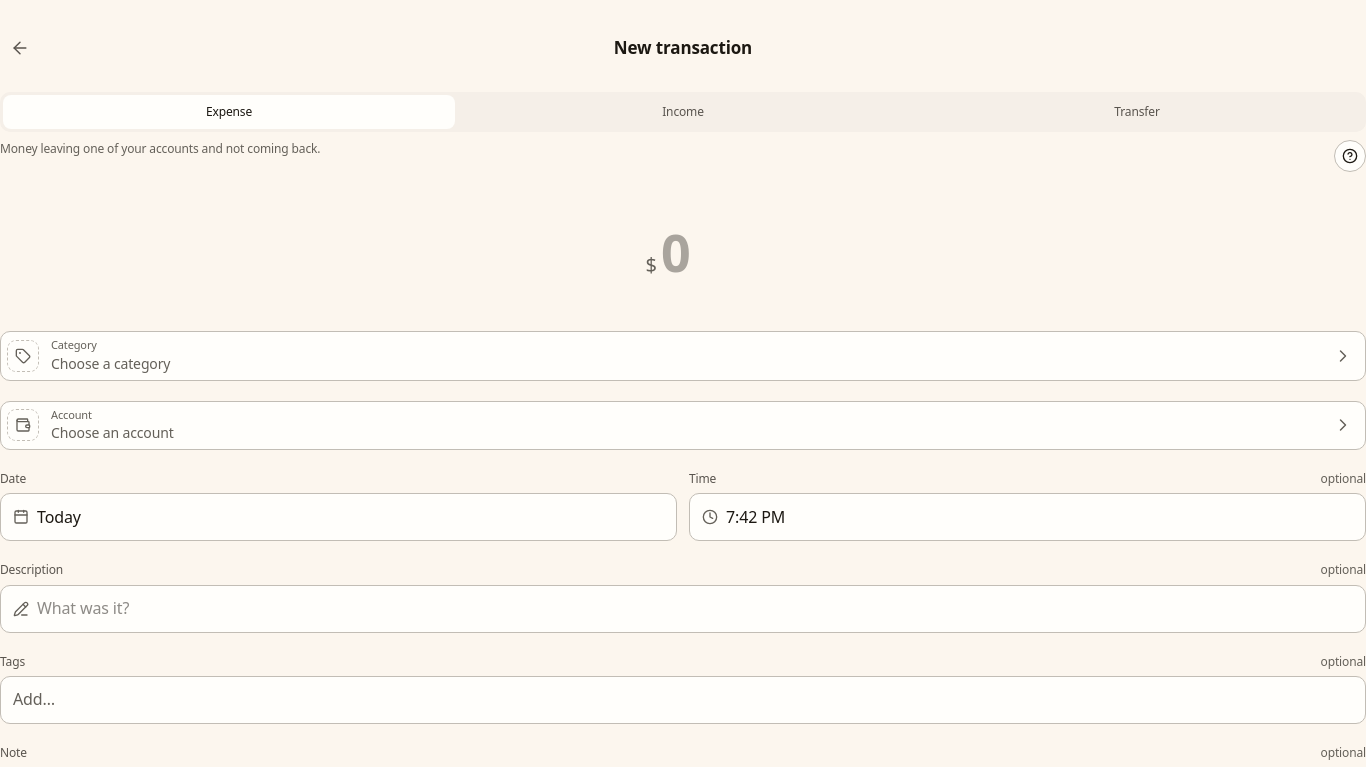
it: NewTransactionScreen › gives each type back the category chosen under it
Expected: the element named "Type" is shown, [0,92,1365,132]
Click the button "Category Choose a category".
click(23, 356)  # box [0,331,1365,381]
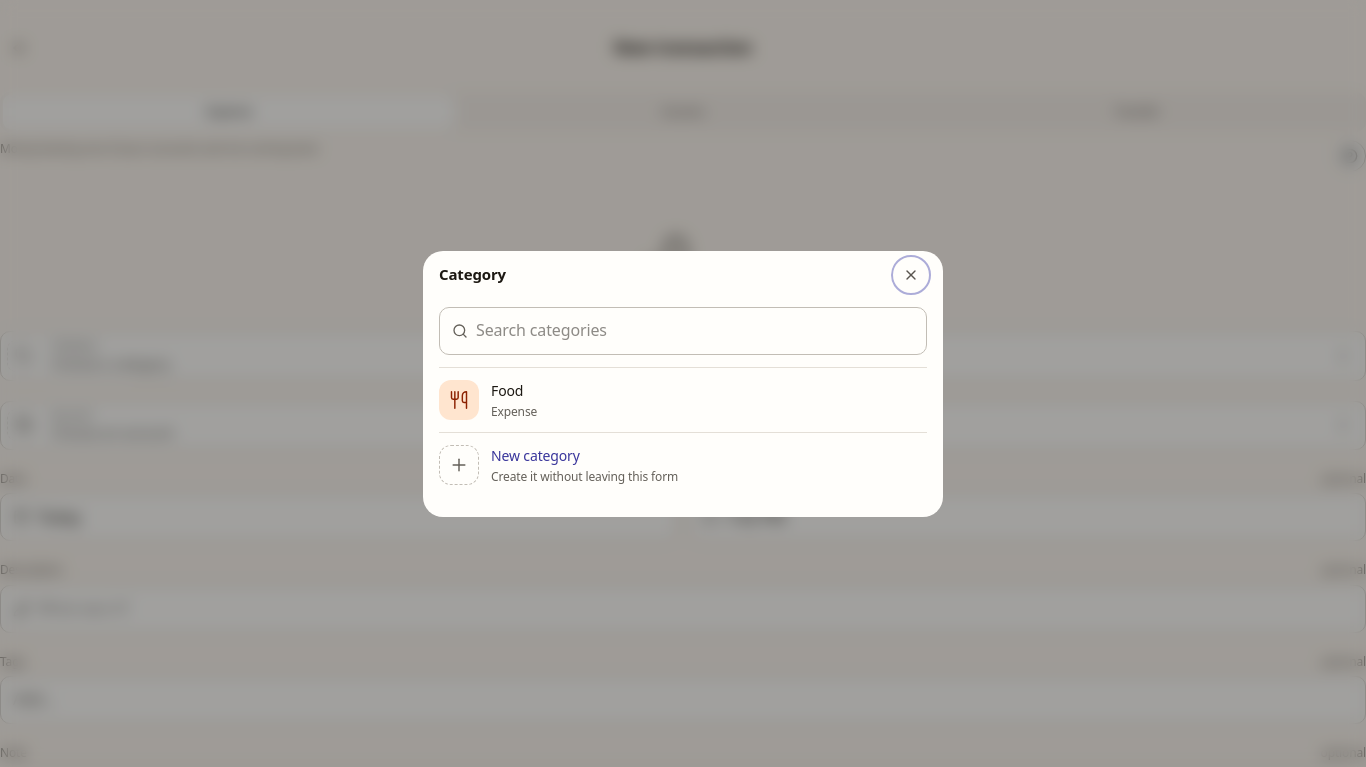
Click the option "Food Expense".
click(459, 400)  # box [423,367,943,432]
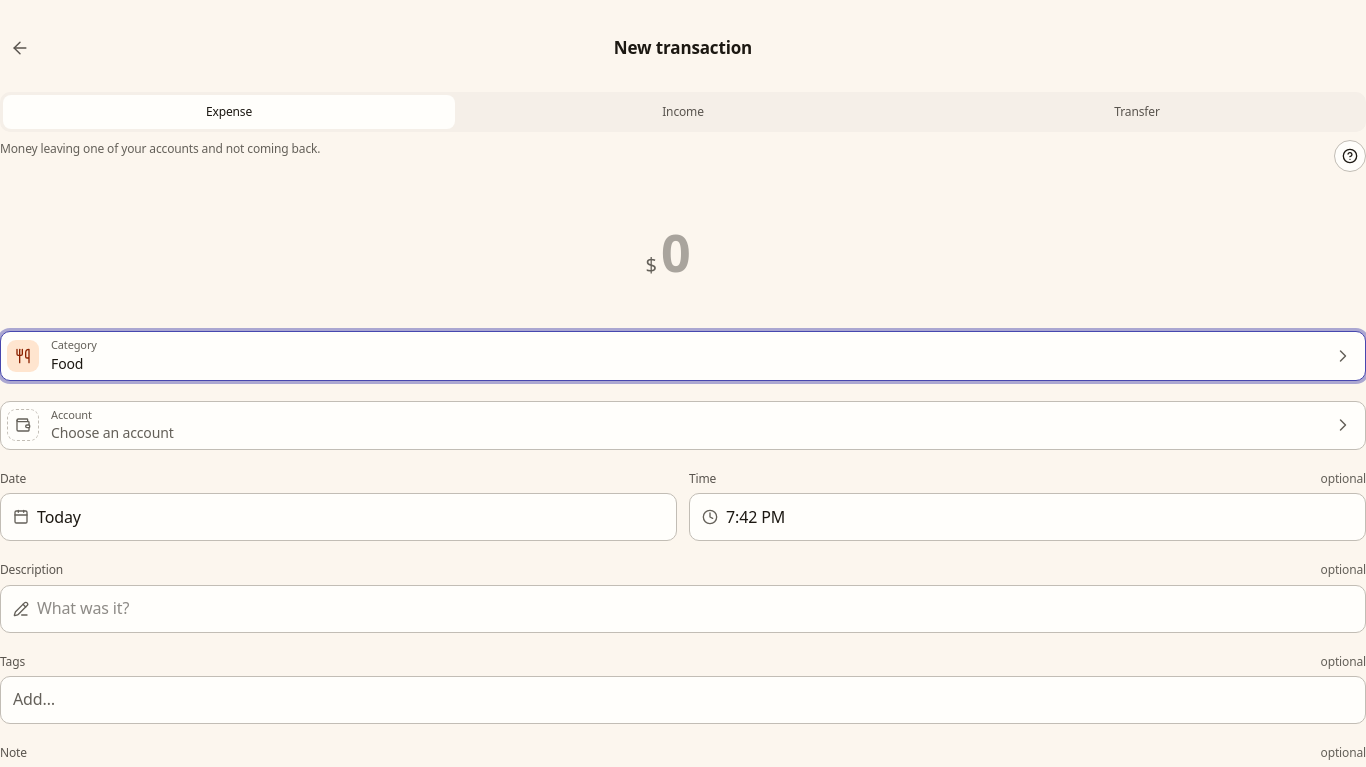
Expected: the button "Category Food" is shown, [0,331,1365,381]
Click the button "Income".
click(683, 112)  # box [457,95,909,129]
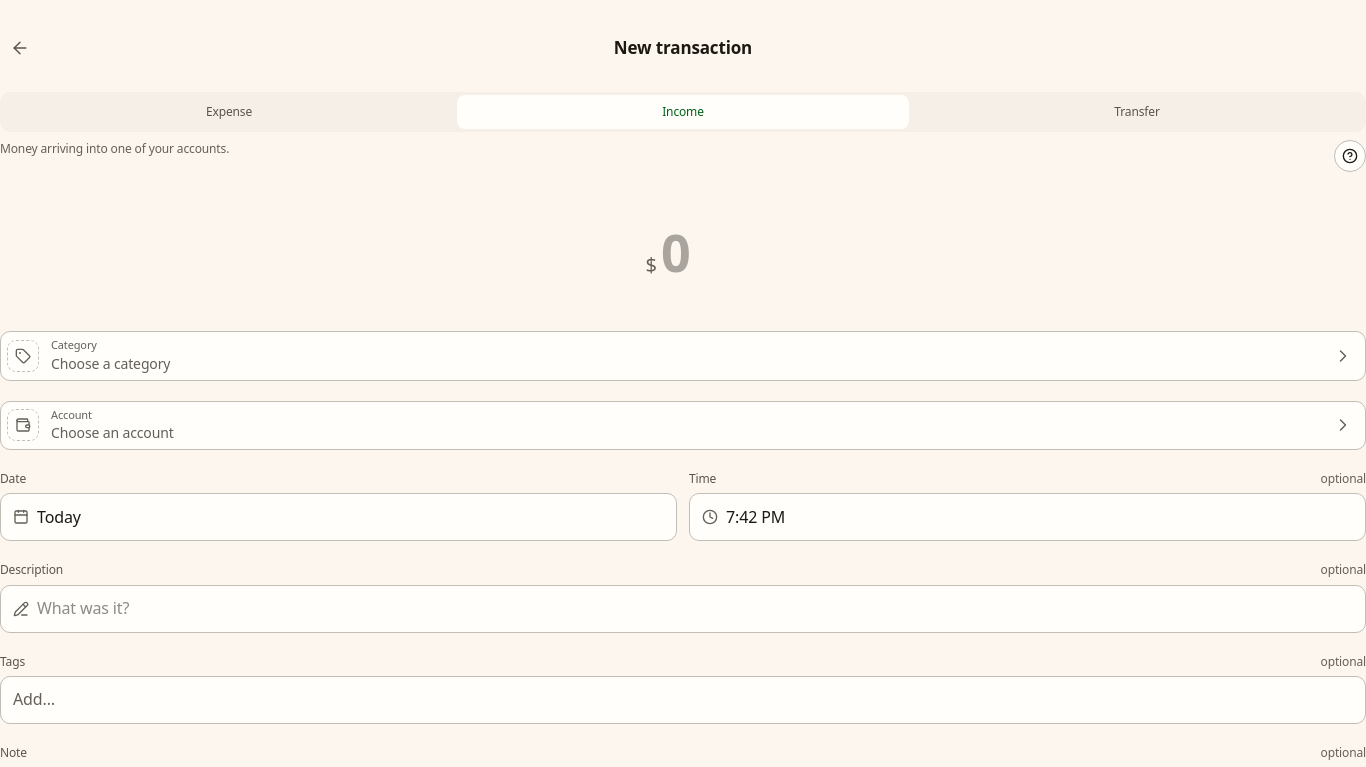
Expected: the button "Category Food" is gone
Click the button "Expense".
click(229, 112)  # box [3,95,455,129]
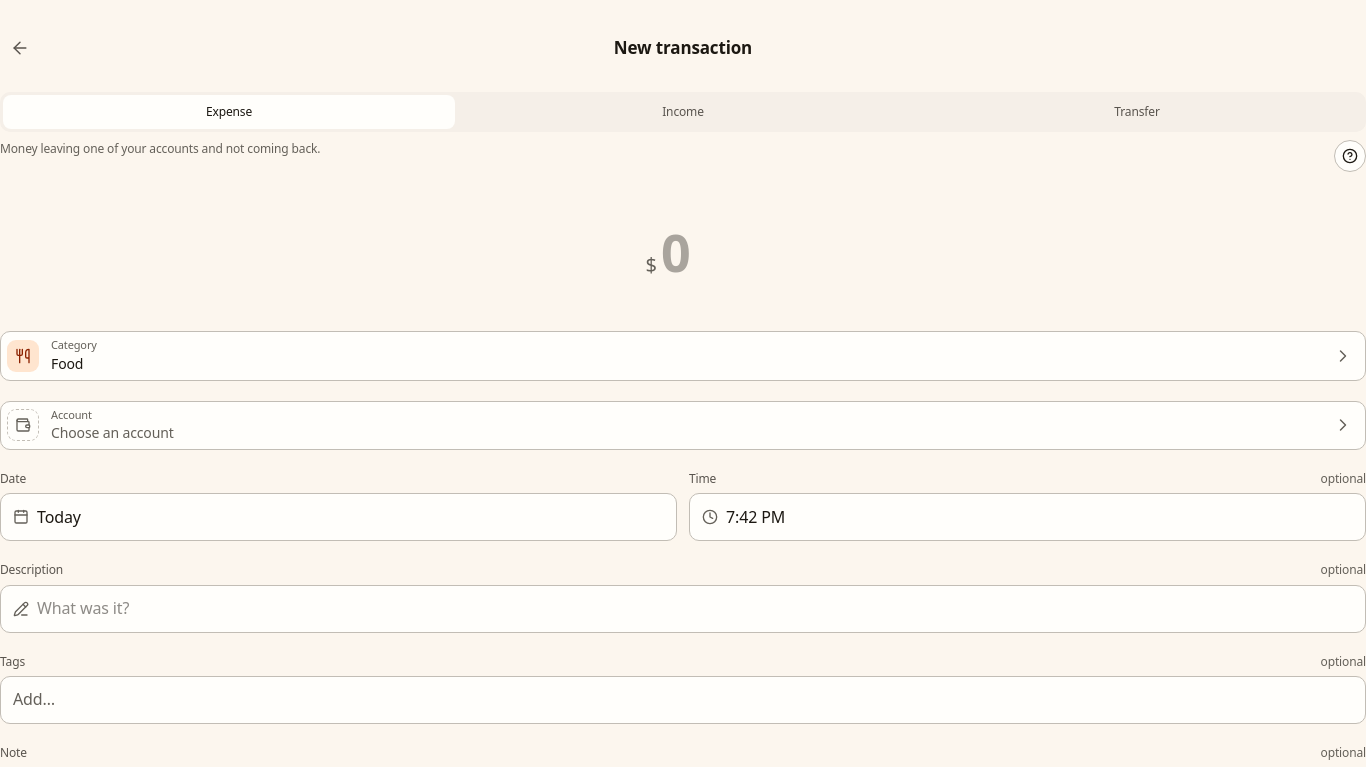
Expected: the button "Category Food" is shown, [0,331,1365,381]
